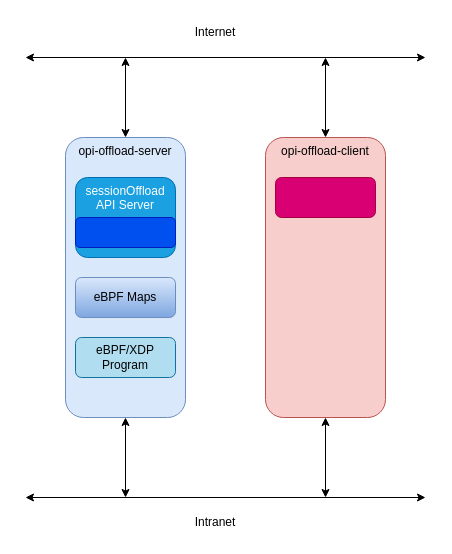
Image size: 452x554. Some labels were removed from this diagram. Each missing label, with the centre of its shape:
sessionOffload API Client: [325,197]
XDP Backend: [125,232]
